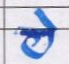e_matra: (34, 9, 58, 28)
